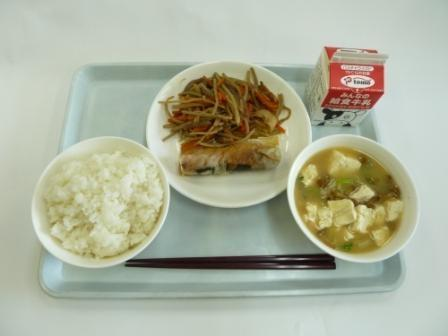Fish: (178, 137, 282, 188)
Milk: (302, 42, 393, 131)
Rice: (32, 140, 171, 258)
Soups: (278, 136, 417, 272)
pasta: (147, 55, 283, 136)
